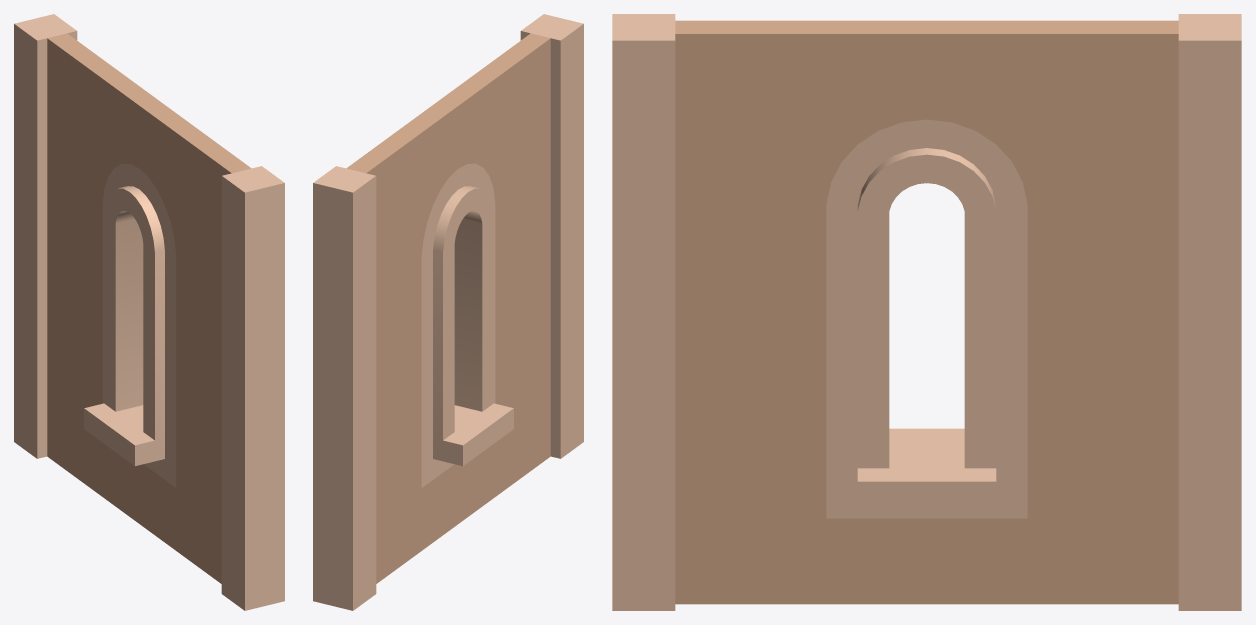
The picture shows the model from 3 angles, left to right: view 1: azimuth 30°, elevation 25°; view 2: azimuth 150°, elevation 25°; view 3: azimuth 270°, elevation 25°; orthographic projection. The views are drawn at different scales.
Parts seen in each view (by area): view 1: wallWoodWindowRound; view 2: wallWoodWindowRound; view 3: wallWoodWindowRound.
Boxes of the visible parts, x1,y1,x2,y2 form: wallWoodWindowRound: [14, 14, 284, 610]; wallWoodWindowRound: [313, 14, 583, 610]; wallWoodWindowRound: [612, 14, 1241, 610].
Size of the model in its own units: 0.2 by 1 by 1.
